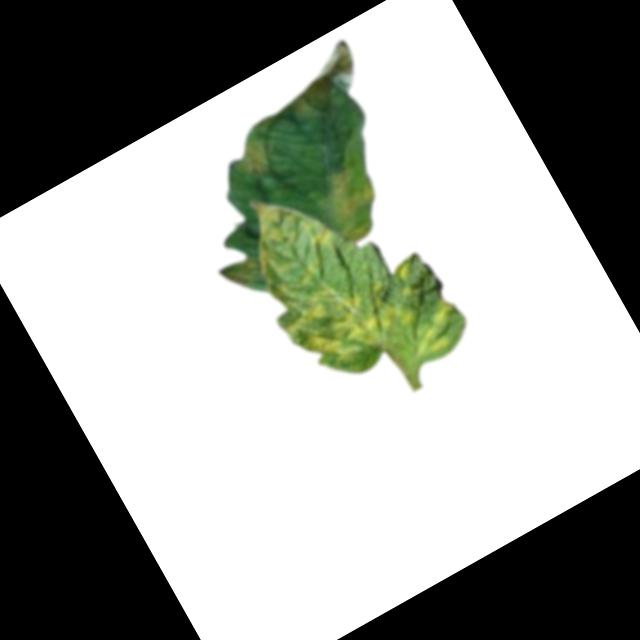Leaf_Mold: (260, 212, 474, 414), (296, 125, 409, 249), (268, 36, 373, 129), (240, 179, 315, 254), (228, 129, 285, 184), (216, 248, 270, 295), (303, 219, 338, 252)
